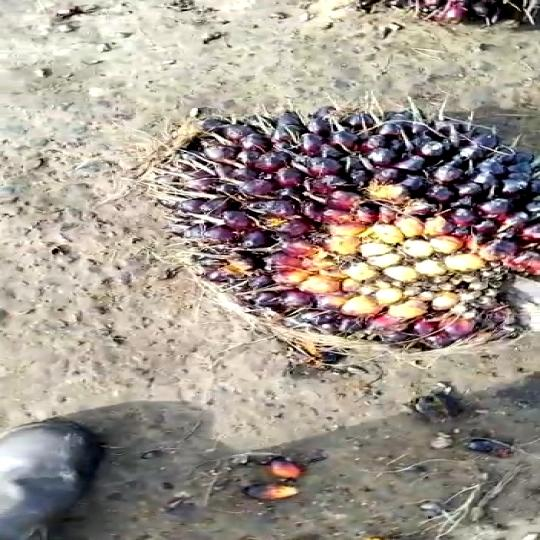mentah: (151, 93, 540, 367)
